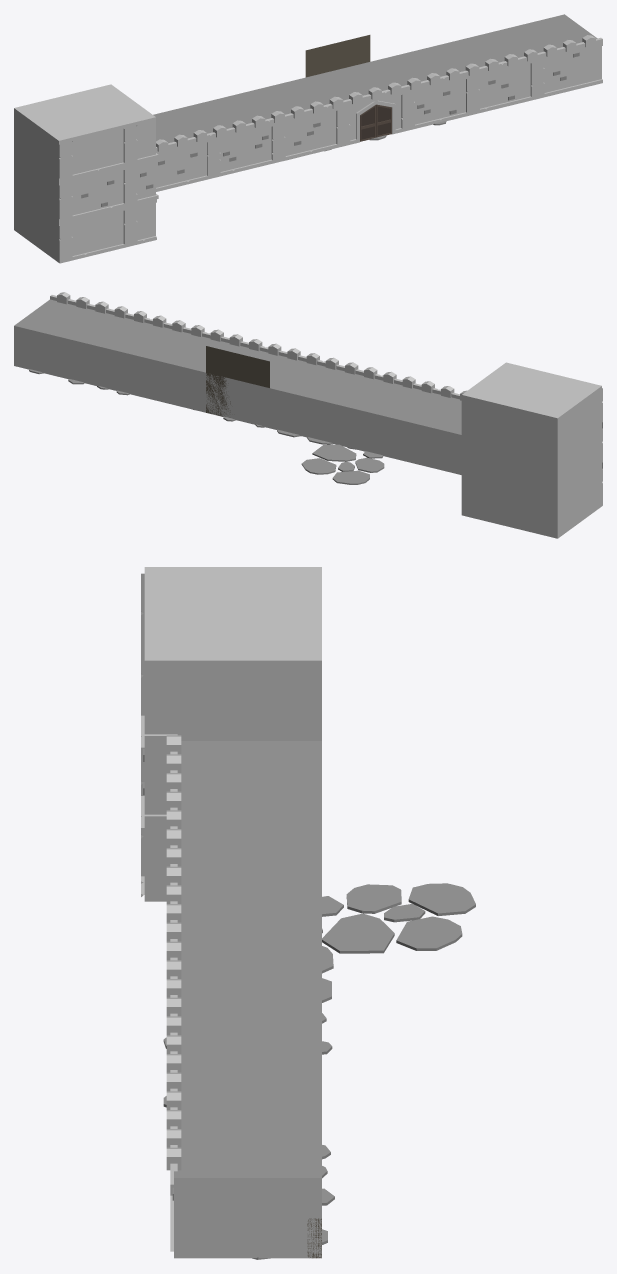
File: EnvironmentModels.fbx
3 views of the same model, one above another, from view 1: azimuth 30°, elevation 25°; view 2: azimuth 150°, elevation 25°; view 3: azimuth 270°, elevation 25° (orthographic). The views are drawn at different scales.
Parts seen in each view (by area): view 1: GreatWall, WallPlane, GreatWallDoor; view 2: GreatWall, WallPlane, RoadPack8; view 3: GreatWall, RoadPack8.
Part boxes in pixels (x1,y1,x2,y2): GreatWall: (14, 14, 602, 263); WallPlane: (305, 35, 370, 77); GreatWallDoor: (360, 104, 391, 141); GreatWall: (14, 292, 602, 538); WallPlane: (206, 346, 269, 416); RoadPack8: (301, 444, 384, 484); GreatWall: (141, 567, 321, 1258); RoadPack8: (322, 883, 475, 953).
Size of the model in its own units: 8502 by 1800 by 2269.
